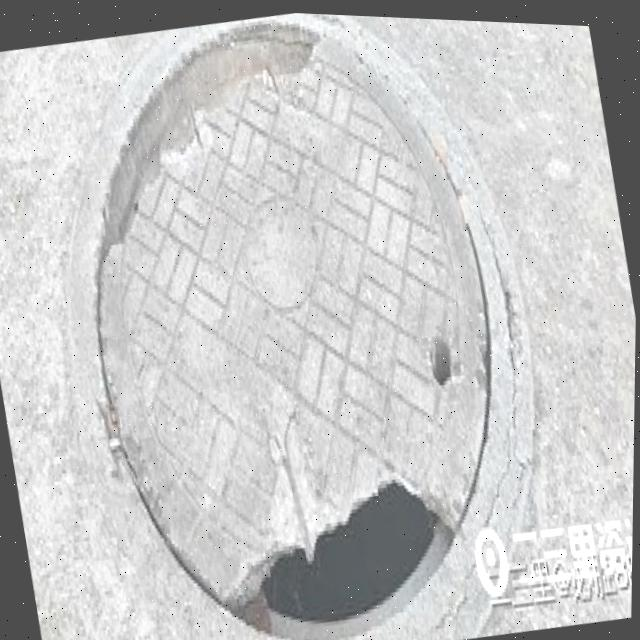manhole: (36, 2, 553, 640)
